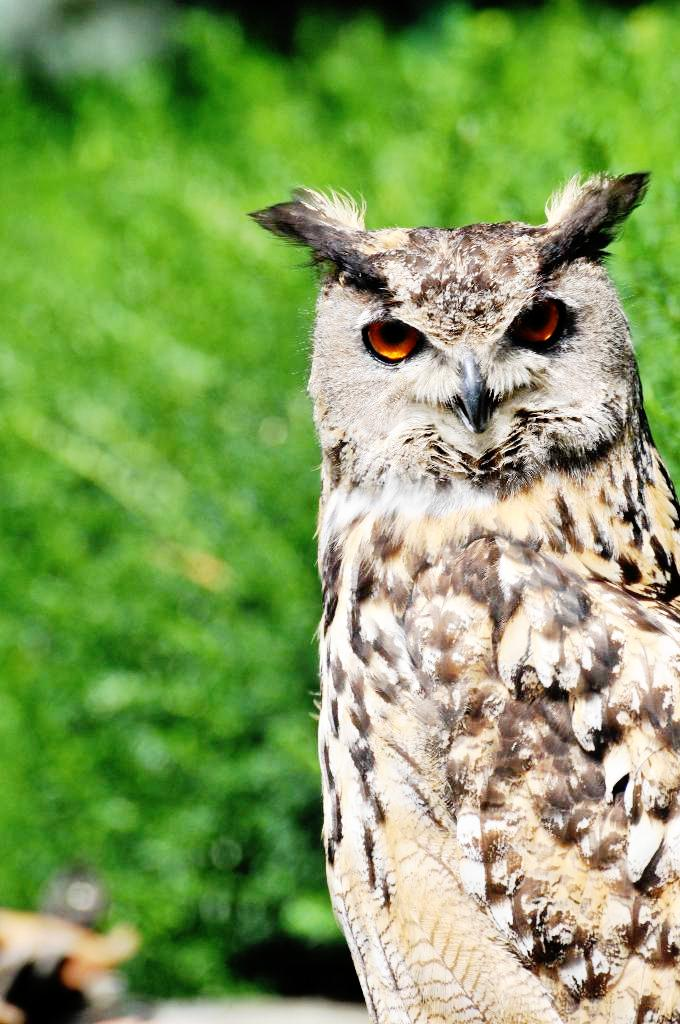Owl: (247, 168, 680, 1024)
